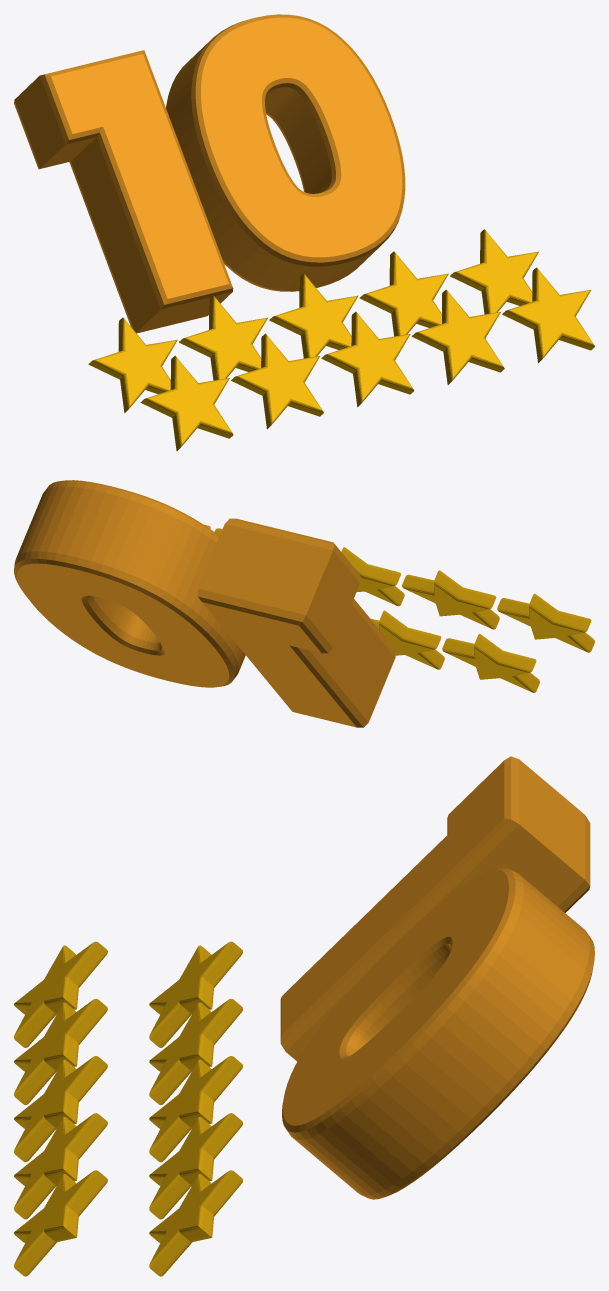
File: num_10.glb
3 renders of one model, top to bottom at view 1: azimuth 30°, elevation 25°; view 2: azimuth 150°, elevation 25°; view 3: azimuth 270°, elevation 25°, orthographic. The views are drawn at different scales.
Bounding box in the file's own units: 2.08 × 1.02 × 1.8.
